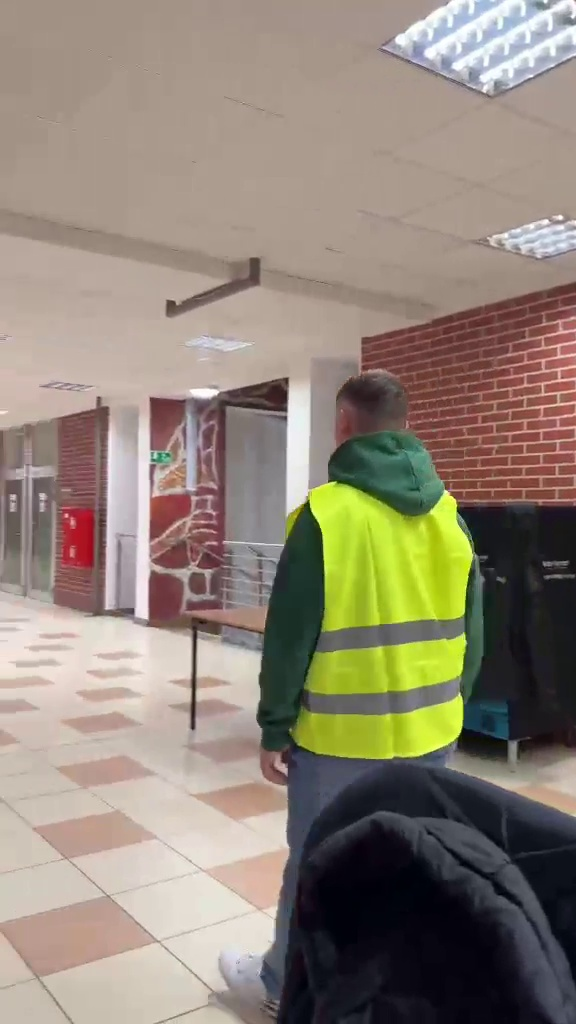vest: (234, 374, 489, 1012)
